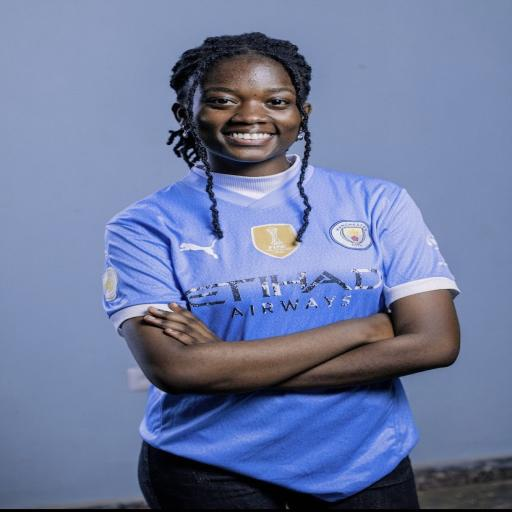LAURENE: (148, 34, 324, 174)
